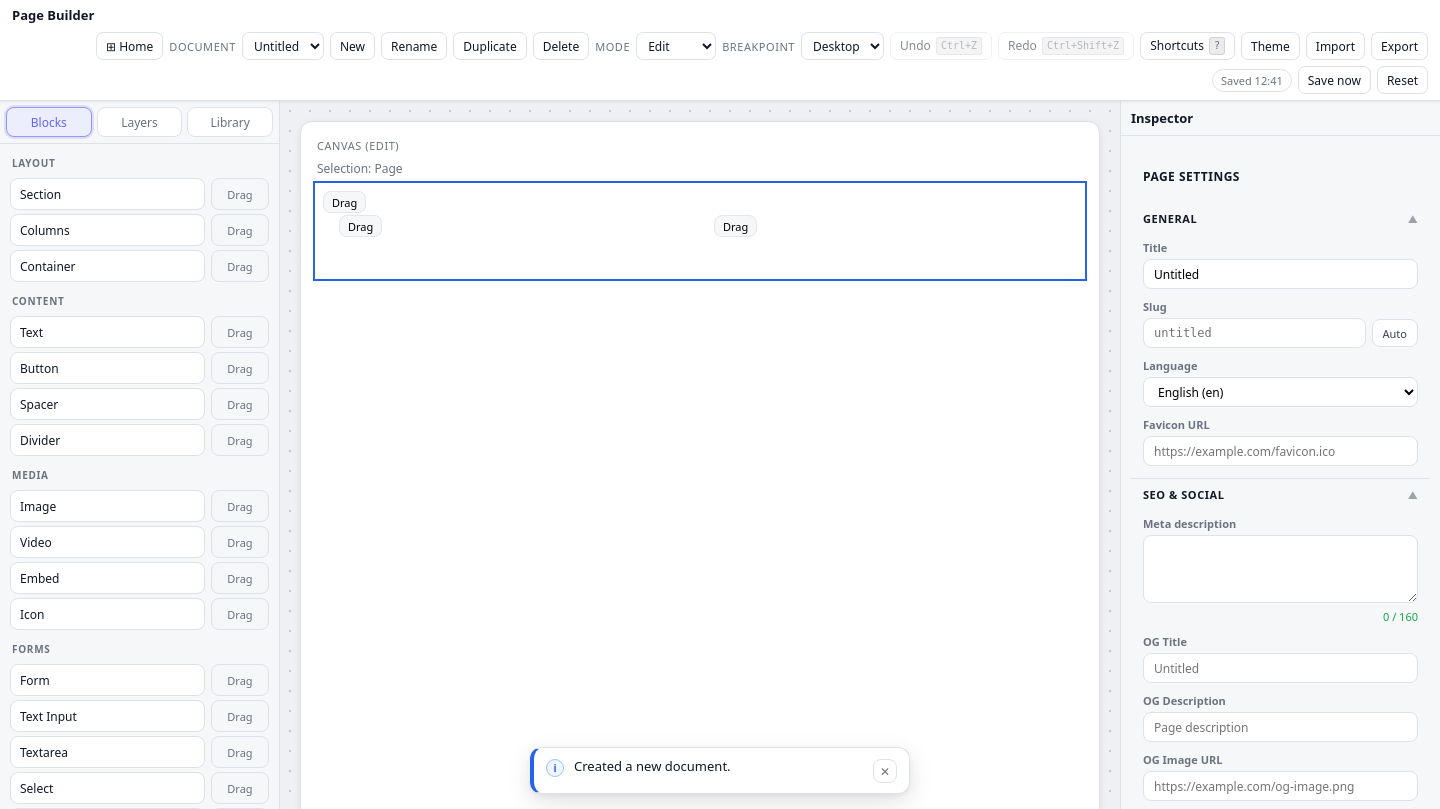
Test: LayerTree › collapse/expand toggles child visibility
Check: the button "Save now" is enabled, box 1298,66 -> 1371,94
Click the button "Layers".
click(140, 122)  # box 97,107 -> 182,137
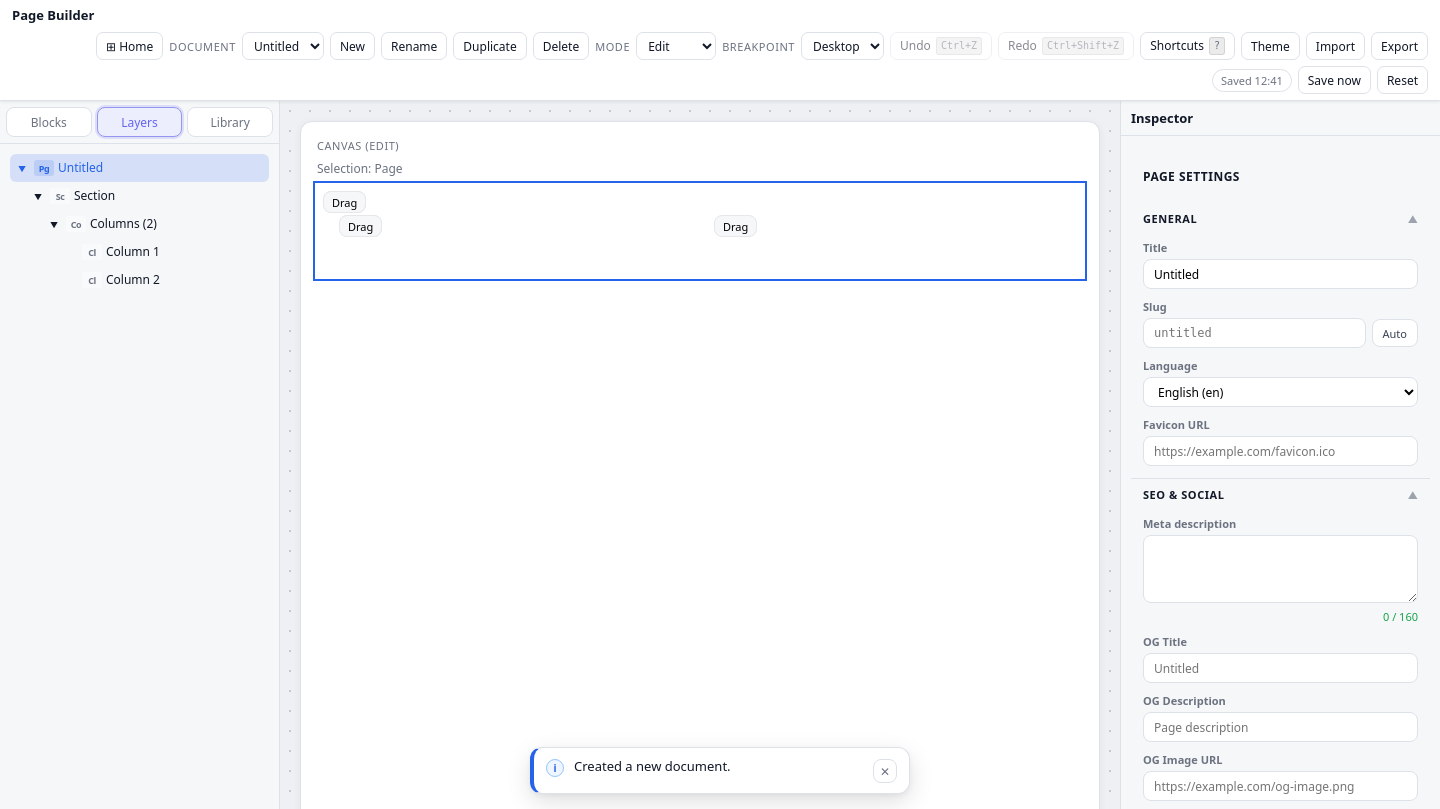
Check: the text "Section" is shown, box 74,187 -> 115,204
Check: the text "Columns (2)" is shown, box 90,215 -> 157,232
Click the button named "Collapse".
click(38, 196)  # box 30,188 -> 46,204
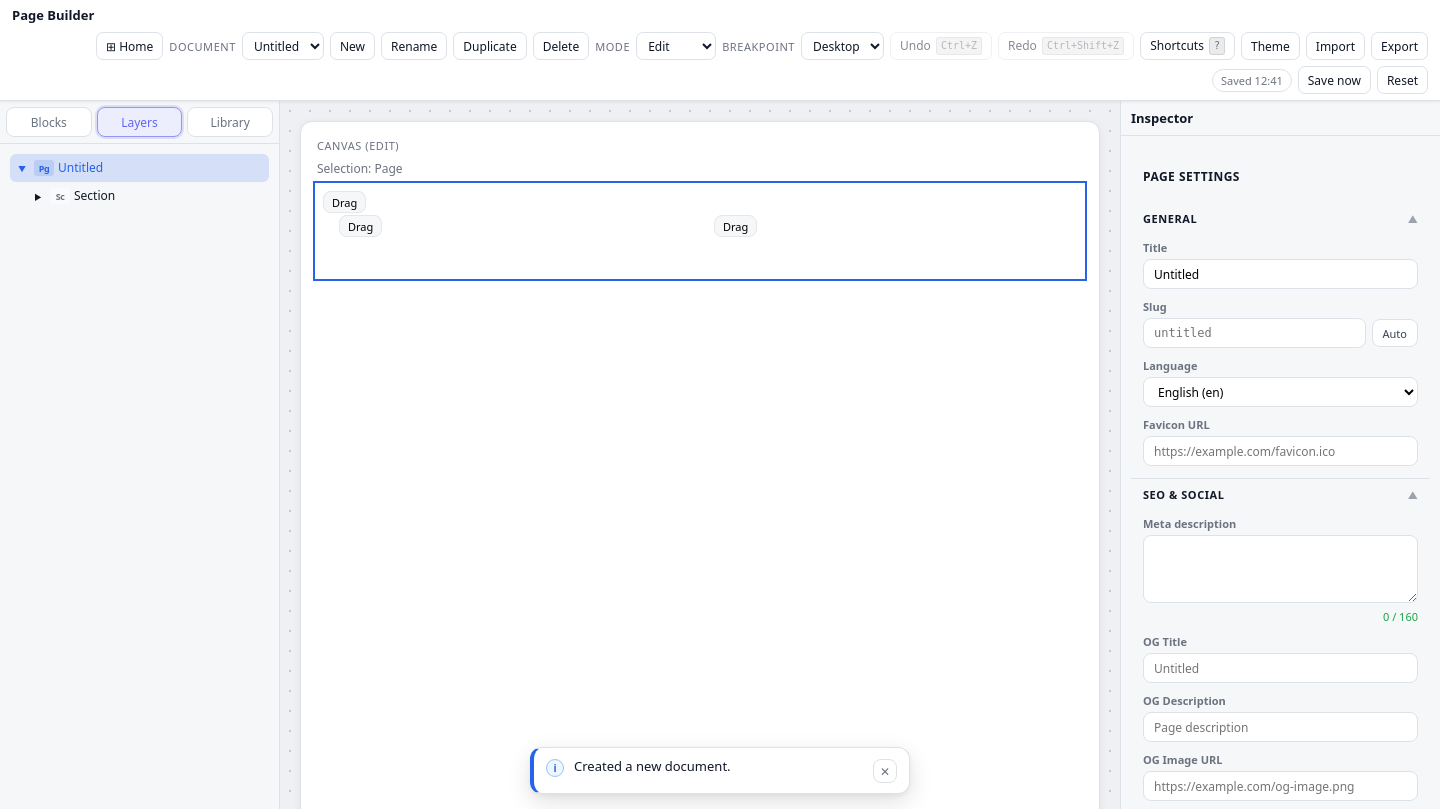
Check: the text "Columns (2)" is gone
Click the button named "Collapse".
click(38, 196)  # box 30,188 -> 46,204
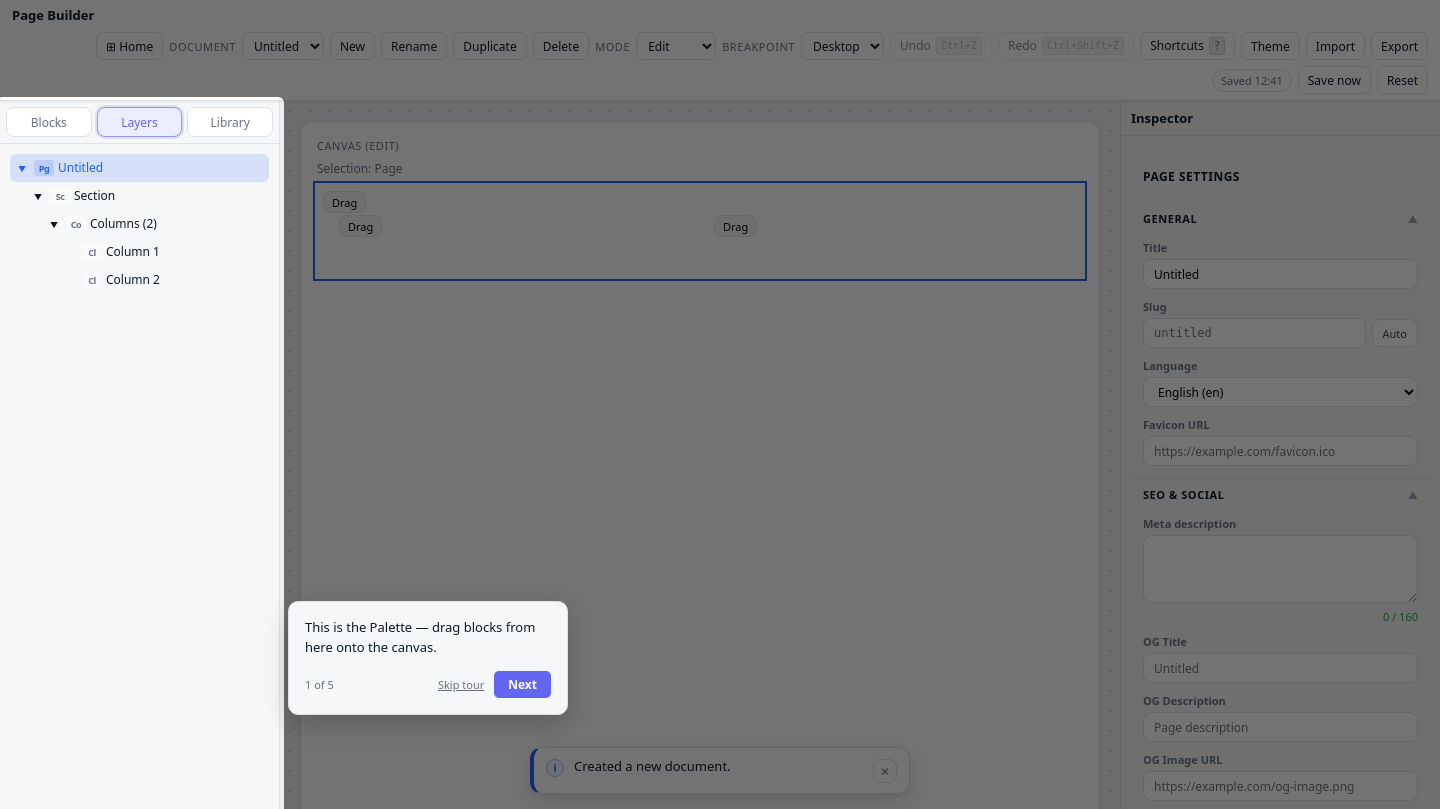
Check: the text "Columns (2)" is shown, box 90,215 -> 157,232
